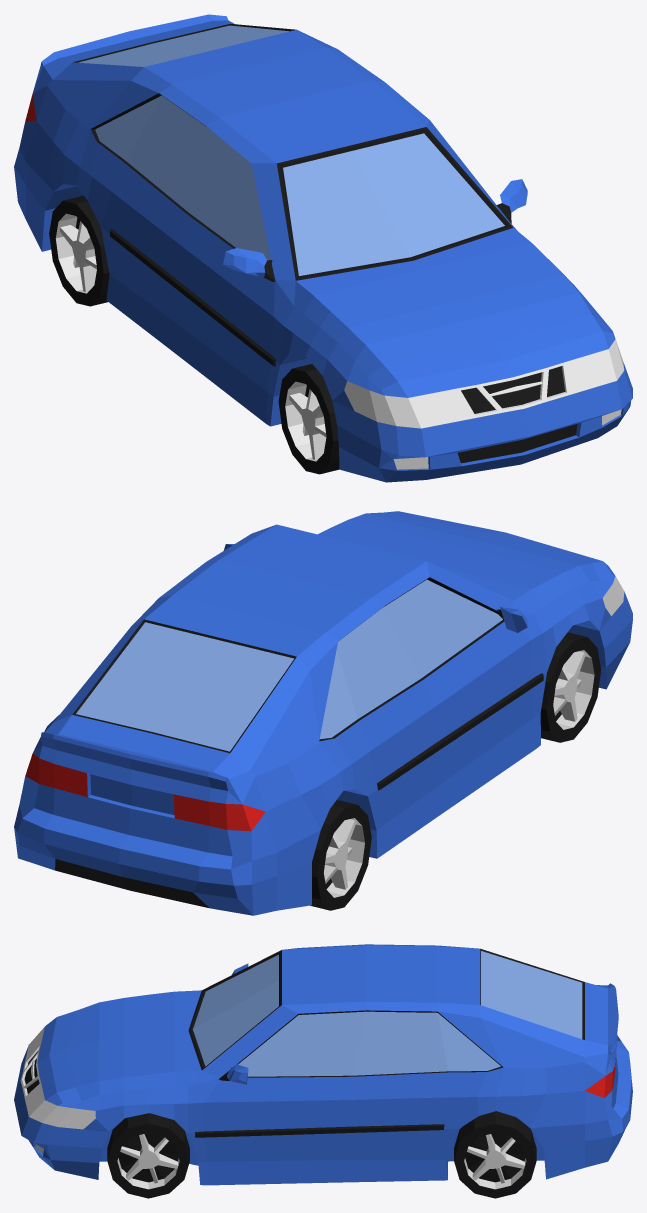
File: not a 9-3.fbx
3 views of the same model, one above another, from view 1: azimuth 30°, elevation 25°; view 2: azimuth 150°, elevation 25°; view 3: azimuth 270°, elevation 25° (orthographic). The views are drawn at different scales.
Parts seen in each view (by area): view 1: Body, Front right, Rear right; view 2: Body, Rear right, Front right; view 3: Body, Rear left, Front left.
Part boxes in pixels (box(x1,y1,x2,y2)): Body: box(14, 14, 632, 482); Front right: box(278, 364, 339, 474); Rear right: box(49, 195, 109, 306); Body: box(14, 511, 632, 915); Rear right: box(310, 800, 371, 910); Front right: box(540, 632, 600, 742); Body: box(14, 944, 632, 1185); Rear left: box(454, 1111, 536, 1198); Front left: box(107, 1113, 189, 1198).
Bounding box in the file's own units: 213 × 156 × 497.
